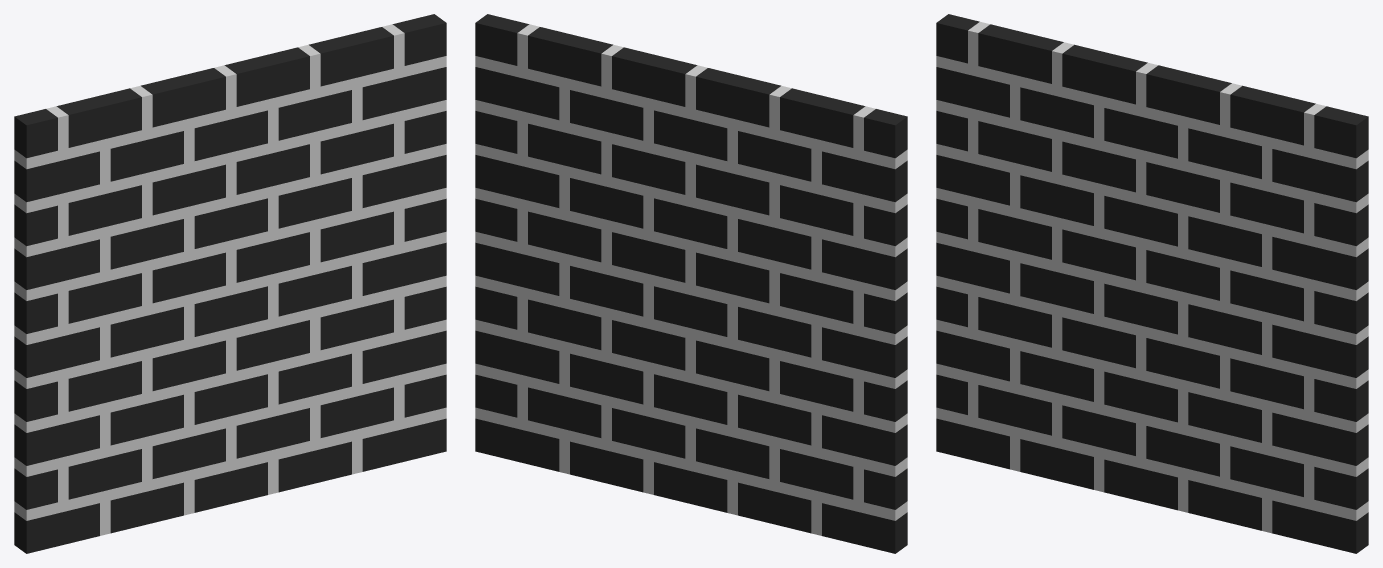
Rendered from ConstructionMaterials-50.obj.
3 views of the same model, side by side, from view 1: azimuth 30°, elevation 25°; view 2: azimuth 150°, elevation 25°; view 3: azimuth 330°, elevation 25° (orthographic).
Bounding box in the file's own units: 4 × 3.9 × 0.2.
Materials: 1 (1 with a texture image).
